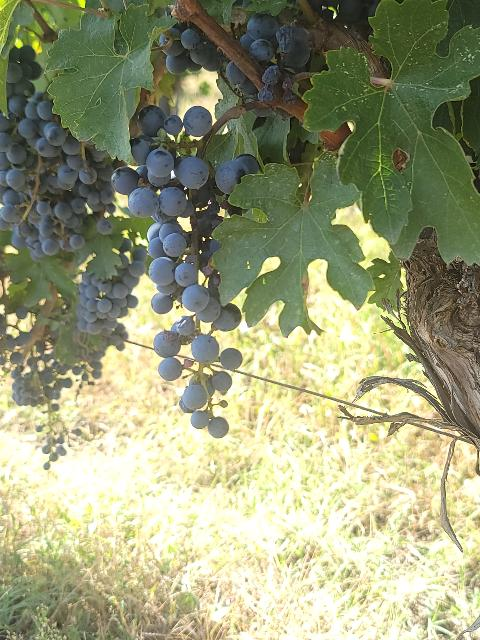grapes: (111, 105, 249, 438), (14, 340, 72, 469), (76, 239, 148, 335)
